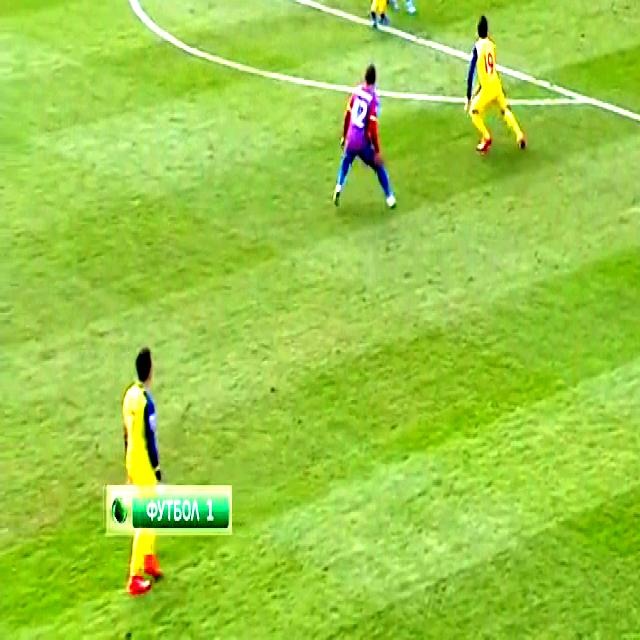soccer-player: (328, 64, 412, 221), (449, 12, 527, 162), (111, 344, 180, 493), (353, 0, 383, 36), (385, 0, 423, 14), (627, 0, 640, 21)
